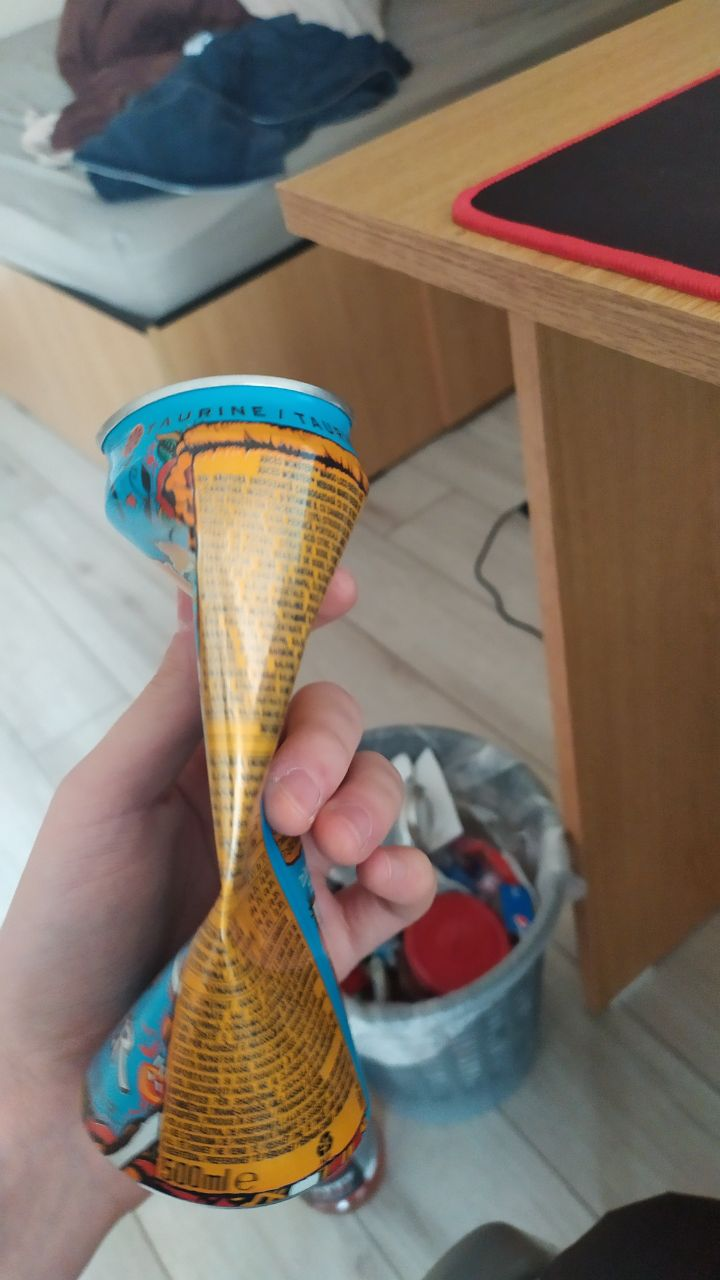Can: (73, 373, 376, 1211)
